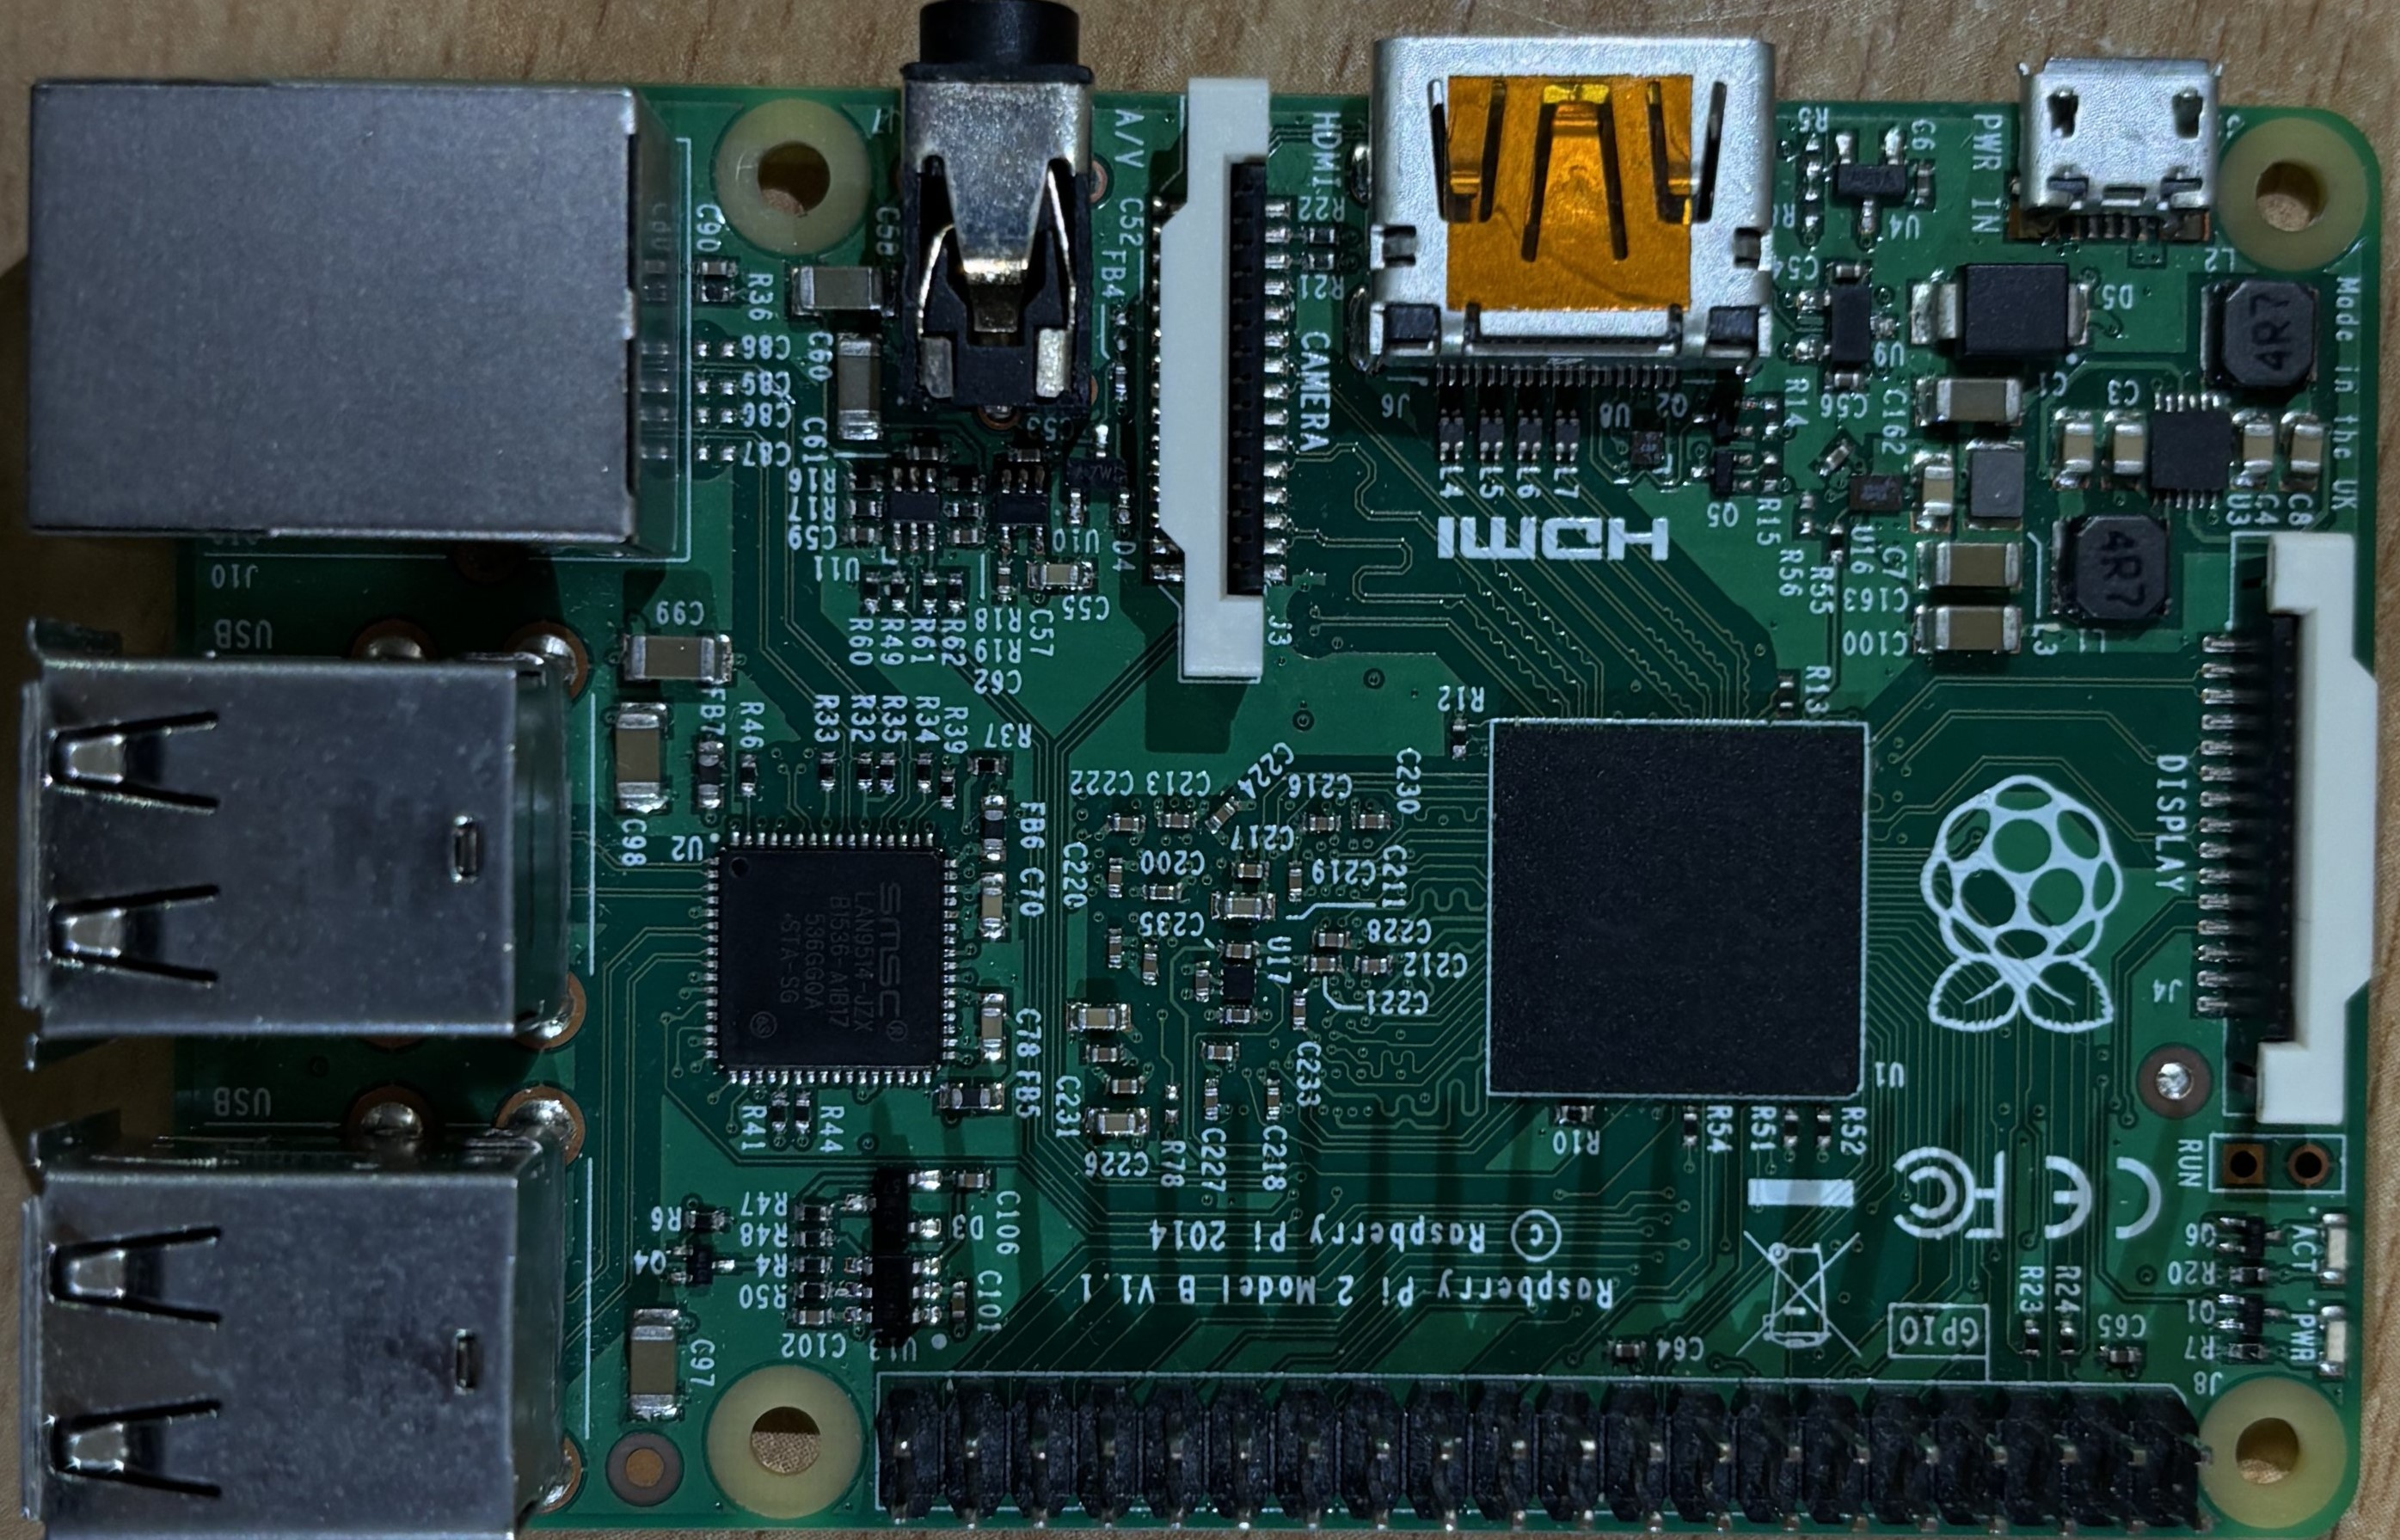Induktor: (2202, 276, 2316, 387), (2055, 514, 2169, 623), (1966, 439, 2027, 525), (1513, 404, 1541, 462), (1478, 406, 1504, 462), (1438, 406, 1464, 460), (1553, 406, 1580, 460)
